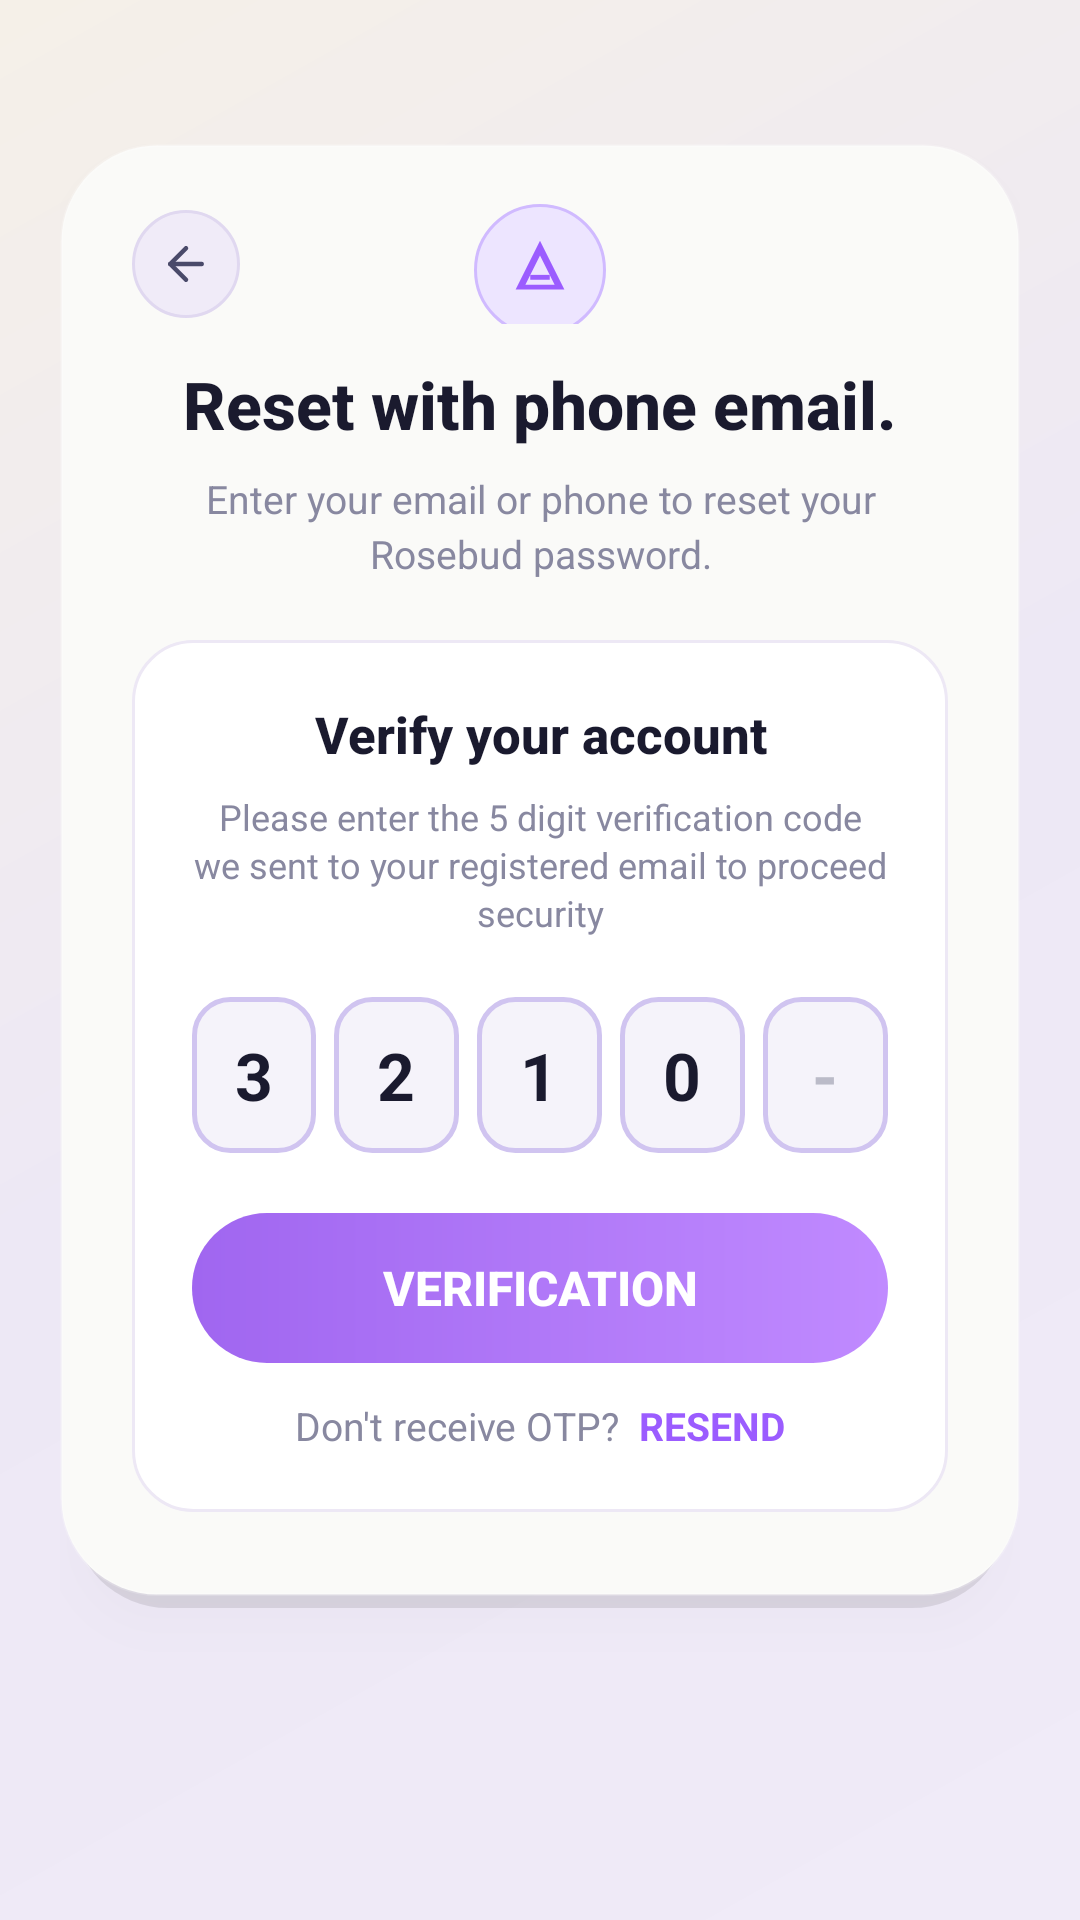

Icon bounding boxes for this 1080×1920 phone screenshot, format (x1, y1, x2, y2):
Back: (168, 246, 204, 282)
